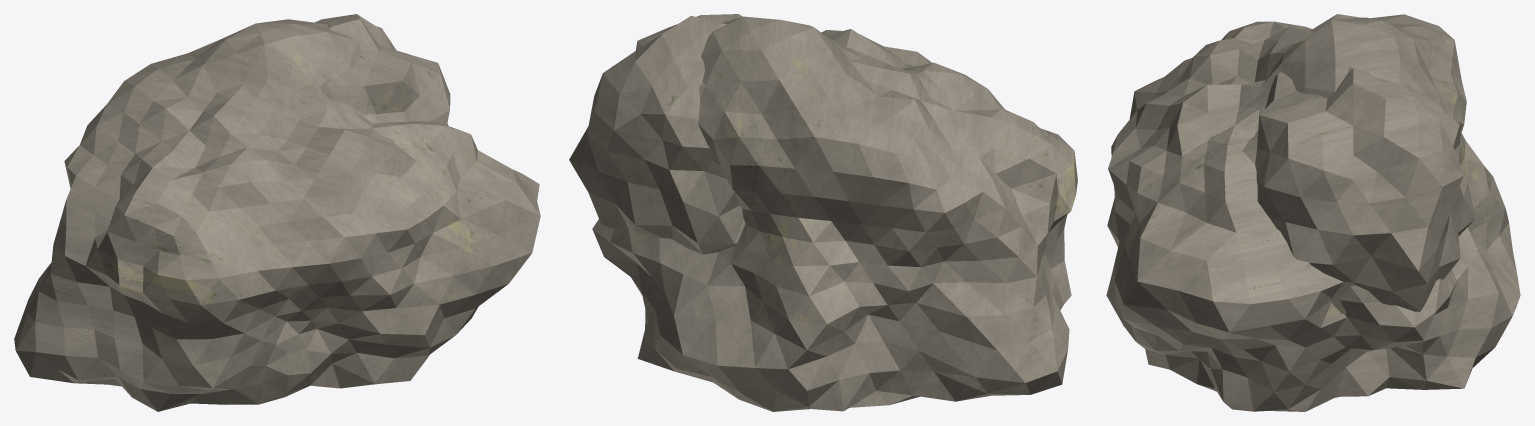
Rendered from HO_Rock_Cliff_S.fbx.
3 renders of one model, left to right at view 1: azimuth 30°, elevation 25°; view 2: azimuth 150°, elevation 25°; view 3: azimuth 270°, elevation 25°, orthographic. The views are drawn at different scales.
Visible parts, largest first — view 1: HO_Rock_Cliff_S; view 2: HO_Rock_Cliff_S; view 3: HO_Rock_Cliff_S.
Part boxes in pixels (left/top/right/bottom): HO_Rock_Cliff_S: left=14, top=14, right=540, bottom=411; HO_Rock_Cliff_S: left=569, top=14, right=1077, bottom=411; HO_Rock_Cliff_S: left=1106, top=14, right=1520, bottom=411.
Bounding box in the file's own units: 7.25 × 4.4 × 5.19.
